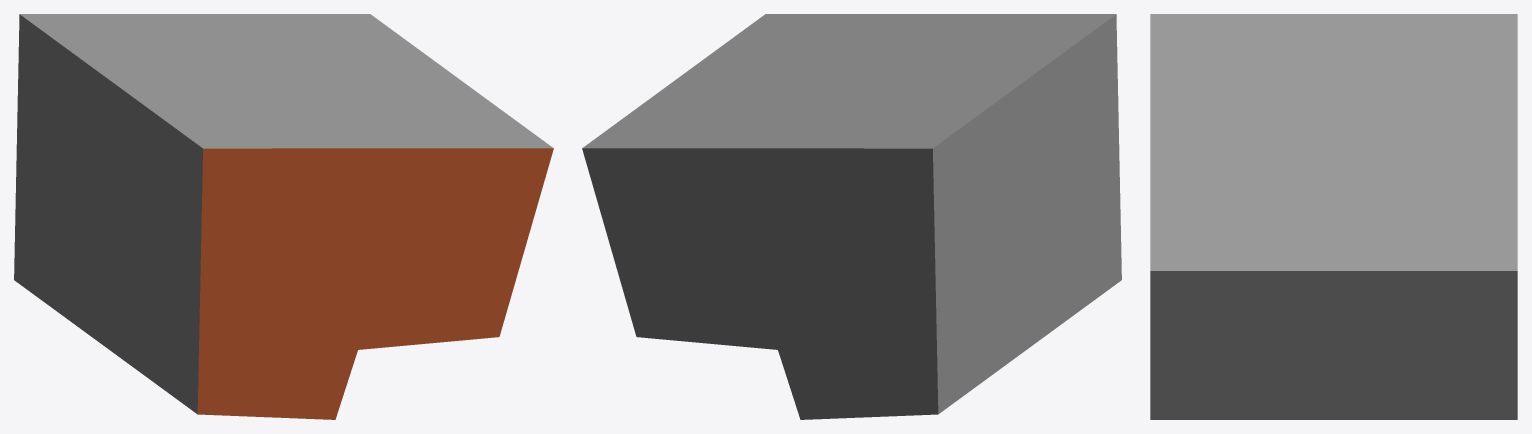
Rendered from construction_2236_assumed_A_Casa_h6m.obj.
The picture shows the model from 3 angles, left to right: view 1: azimuth 30°, elevation 25°; view 2: azimuth 150°, elevation 25°; view 3: azimuth 270°, elevation 25°; orthographic projection.
Visible parts, largest first — view 1: construction_2236_assumed_A_Casa; view 2: construction_2236_assumed_A_Casa; view 3: construction_2236_assumed_A_Casa.
Part boxes in pixels (x1,y1,x2,y2): construction_2236_assumed_A_Casa: (14,14,553,419); construction_2236_assumed_A_Casa: (582,14,1121,419); construction_2236_assumed_A_Casa: (1150,14,1517,419).
Bounding box in the file's own units: 6.72 × 5.48 × 6.
